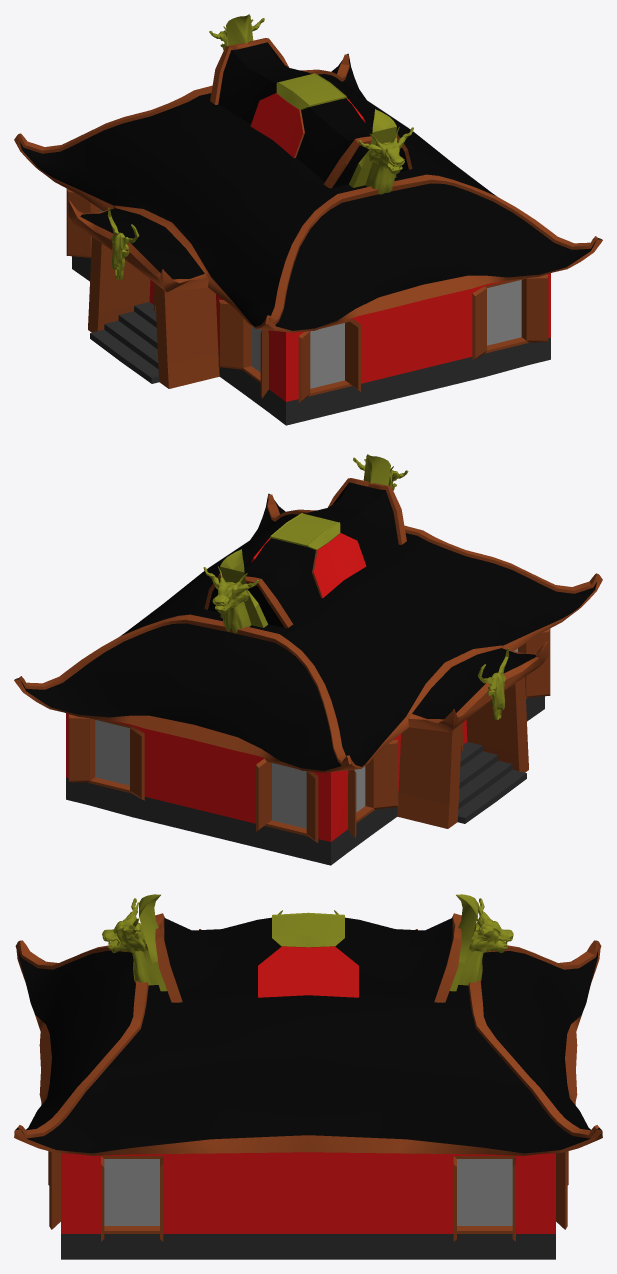
File: kaserne.FBX
The picture shows the model from 3 angles, top to bottom: view 1: azimuth 30°, elevation 25°; view 2: azimuth 150°, elevation 25°; view 3: azimuth 270°, elevation 25°; orthographic projection. The views are drawn at different scales.
Parts seen in each view (by area): view 1: kaserne; view 2: kaserne; view 3: kaserne.
Part boxes in pixels (x1,y1,x2,y2): kaserne: [14, 14, 602, 425]; kaserne: [14, 454, 602, 865]; kaserne: [14, 894, 602, 1259].
Bounding box in the file's own units: 72.78 × 48.24 × 88.24.
